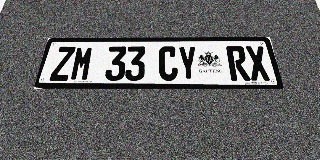3: (104, 46, 127, 81), (125, 46, 146, 81)
C: (158, 46, 178, 81)
M: (69, 46, 94, 81)
R: (226, 46, 251, 81)
X: (245, 46, 271, 81)
Y: (177, 46, 198, 81)
Z: (49, 47, 76, 81)
